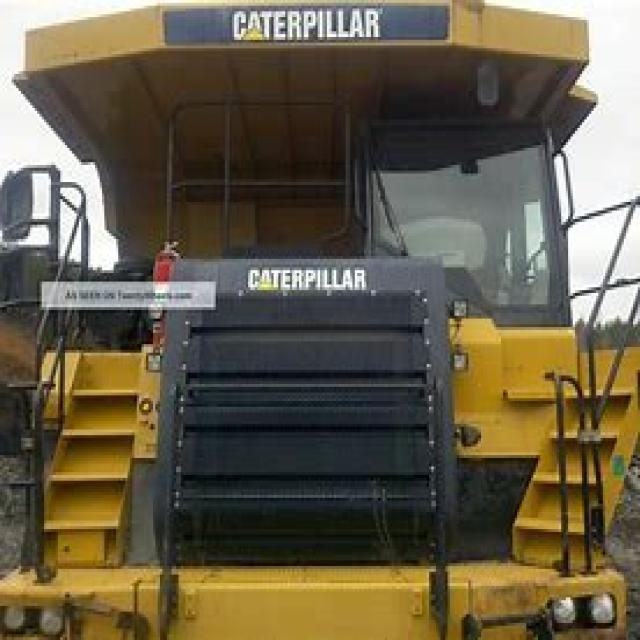dump_truck: (9, 8, 626, 626)
